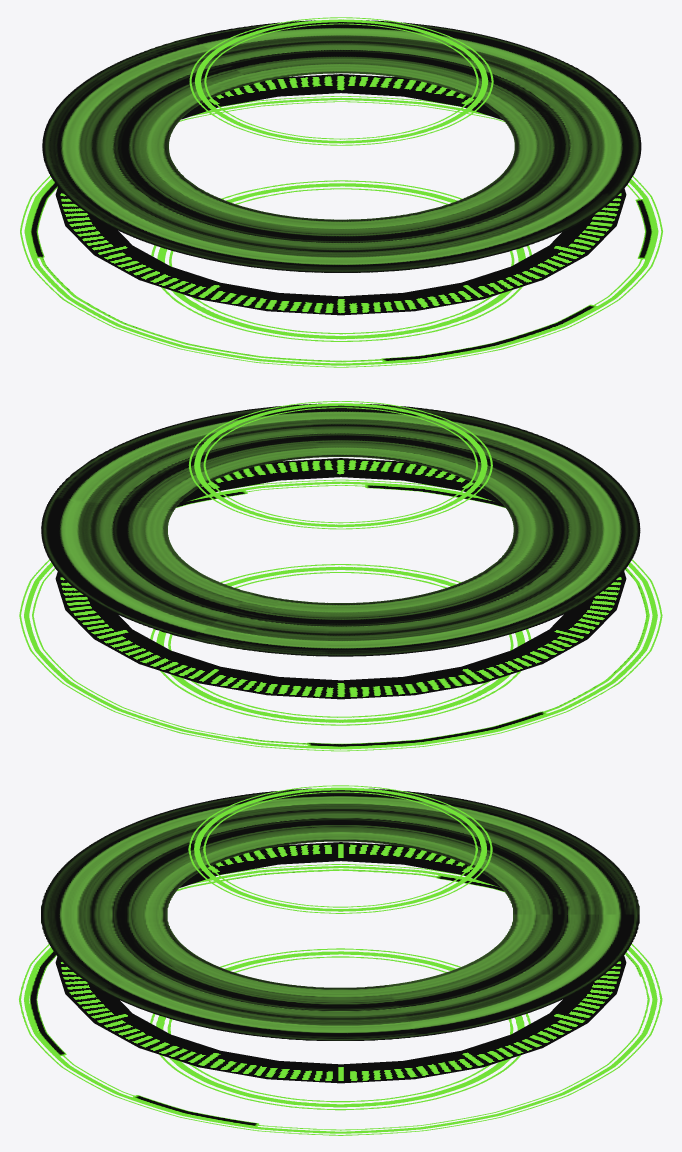
The model's file is parts03.fbx.
The picture shows the model from 3 angles, top to bottom: view 1: azimuth 30°, elevation 25°; view 2: azimuth 150°, elevation 25°; view 3: azimuth 270°, elevation 25°; orthographic projection.
Visible parts, largest first — view 1: Parts_02:polymsh_detached7, Parts_02:polymsh_detached5, Parts_02:polymsh_detached4, Parts_02:polymsh_detached8, Parts_02:polymsh_detached9; view 2: Parts_02:polymsh_detached7, Parts_02:polymsh_detached5, Parts_02:polymsh_detached4, Parts_02:polymsh_detached8, Parts_02:polymsh_detached9; view 3: Parts_02:polymsh_detached7, Parts_02:polymsh_detached5, Parts_02:polymsh_detached4, Parts_02:polymsh_detached8, Parts_02:polymsh_detached9.
Part boxes in pixels (x1,y1,x2,y2): Parts_02:polymsh_detached7: [42, 20, 641, 272]; Parts_02:polymsh_detached5: [55, 74, 626, 315]; Parts_02:polymsh_detached4: [20, 96, 662, 367]; Parts_02:polymsh_detached8: [189, 17, 493, 145]; Parts_02:polymsh_detached9: [151, 180, 531, 341]; Parts_02:polymsh_detached7: [41, 403, 640, 656]; Parts_02:polymsh_detached5: [55, 458, 626, 699]; Parts_02:polymsh_detached4: [19, 479, 662, 751]; Parts_02:polymsh_detached8: [188, 401, 492, 529]; Parts_02:polymsh_detached9: [150, 564, 531, 725]; Parts_02:polymsh_detached7: [41, 788, 639, 1040]; Parts_02:polymsh_detached5: [55, 842, 626, 1083]; Parts_02:polymsh_detached4: [19, 864, 662, 1135]; Parts_02:polymsh_detached8: [188, 785, 492, 913]; Parts_02:polymsh_detached9: [150, 948, 530, 1110].
Bounding box in the file's own units: 10 × 3.03 × 10.
4 materials, 4 textured.
